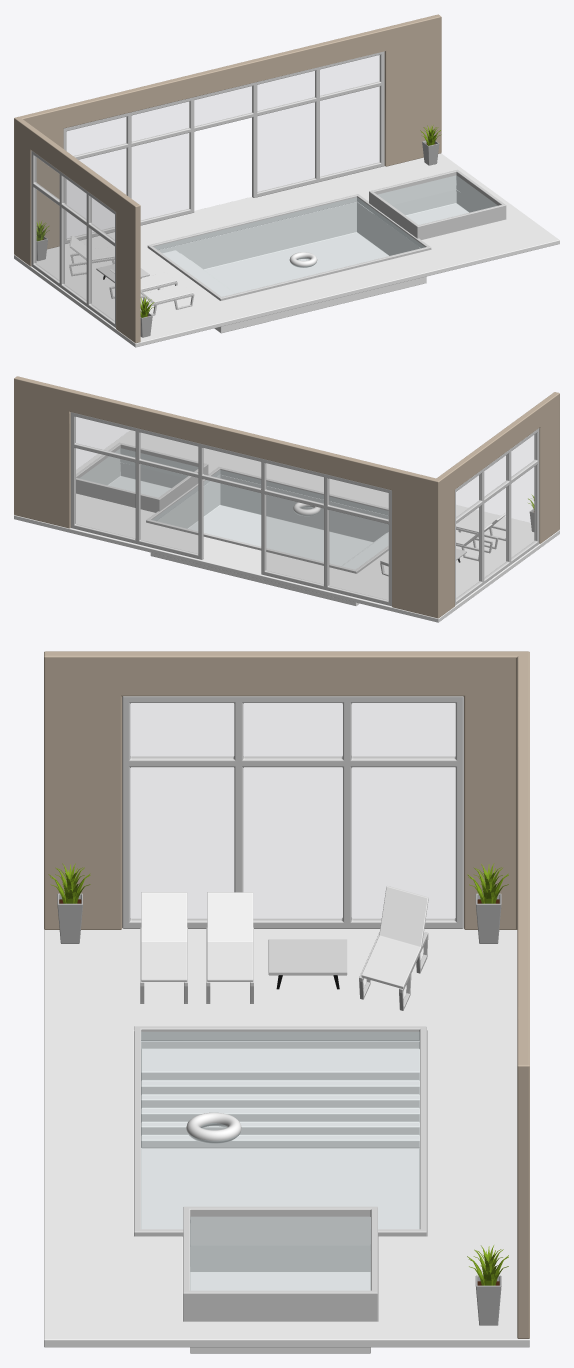
The model's file is Swiming Pool.gltf.
3 renders of one model, top to bottom at view 1: azimuth 30°, elevation 25°; view 2: azimuth 150°, elevation 25°; view 3: azimuth 270°, elevation 25°, orthographic. The views are drawn at different scales.
Parts seen in each view (by area): view 1: Cube.004, Cube, Cube.021, Cube.017, Cube.019, Cube.022, Cube.005, Cube.001, Cube.006, Cube.020, Cube.018, Cube.002 (+4 smaller); view 2: Cube.004, Cube.021, Cube, Cube.017, Cube.019, Cube.005, Cube.022, Cube.006, Cube.001, Cube.020, Cube.002, Cube.018 (+2 smaller); view 3: Cube, Cube.022, Cube.004, Cube.017, Cube.003, Cube.019, Cube.006, Cube.020, Cube.018, Cube.002, Cube.001, Cube.012 (+8 smaller).
Boxes of the visible parts, x1,y1,x2,y2 form: Cube.004: (14, 14, 441, 343); Cube: (14, 153, 559, 347); Cube.021: (67, 55, 379, 238); Cube.017: (154, 197, 423, 296); Cube.019: (158, 202, 426, 321); Cube.022: (35, 156, 114, 321); Cube.005: (63, 51, 384, 243); Cube.001: (147, 194, 431, 300); Cube.006: (31, 150, 115, 327); Cube.020: (374, 175, 497, 247); Cube.018: (378, 175, 497, 224); Cube.002: (369, 169, 506, 239); Cube.004: (14, 376, 559, 618); Cube.021: (75, 417, 388, 599); Cube: (14, 430, 559, 622); Cube.017: (153, 470, 387, 568); Cube.019: (150, 475, 388, 594); Cube.005: (70, 412, 391, 606); Cube.022: (456, 434, 535, 598); Cube.006: (455, 428, 539, 605); Cube.001: (146, 467, 388, 573); Cube.020: (79, 448, 198, 509); Cube.002: (76, 442, 208, 512); Cube.018: (80, 449, 197, 496); Cube: (44, 928, 529, 1347); Cube.022: (130, 703, 455, 919); Cube.004: (44, 651, 529, 1338); Cube.017: (141, 1032, 419, 1228); Cube.003: (141, 1048, 419, 1148); Cube.019: (141, 1041, 419, 1229); Cube.006: (122, 696, 463, 928); Cube.020: (190, 1216, 370, 1353); Cube.018: (190, 1217, 370, 1290); Cube.002: (183, 1206, 377, 1321); Cube.001: (134, 1026, 426, 1236); Cube.012: (361, 885, 428, 988).
Bounding box in the file's own units: 12.14 × 4.69 × 6.02.
